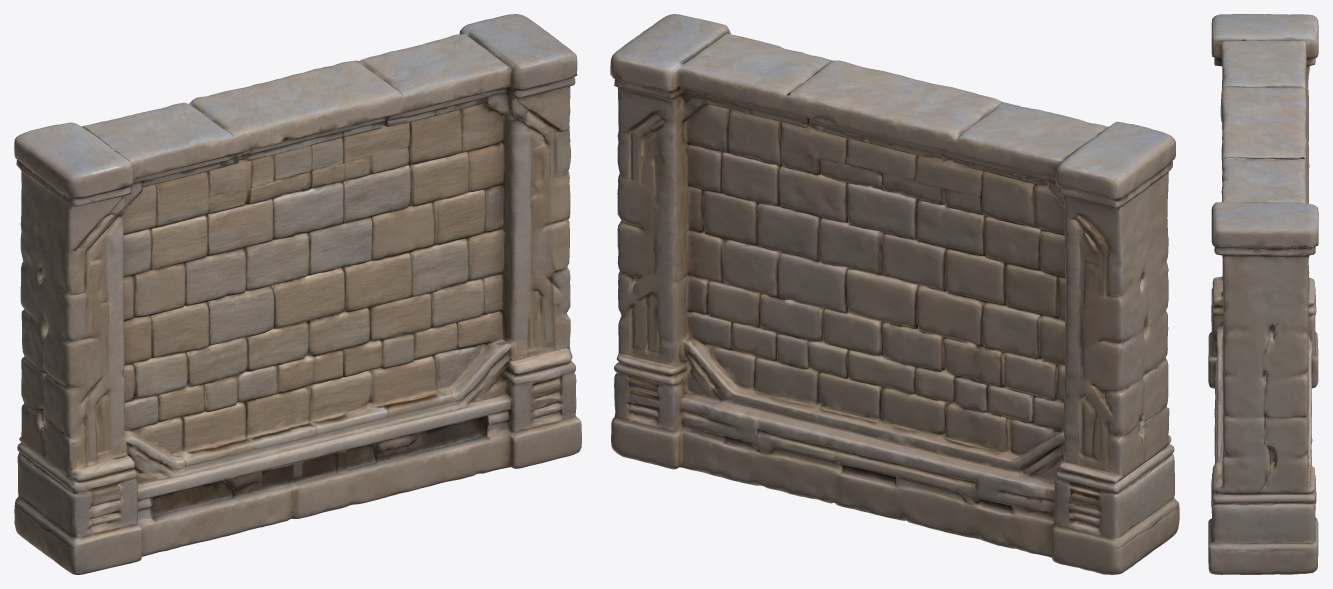
Rendered from Meshy_AI_Stone_Wall_Design_0311203742_texture.glb.
The picture shows the model from 3 angles, left to right: view 1: azimuth 30°, elevation 25°; view 2: azimuth 150°, elevation 25°; view 3: azimuth 270°, elevation 25°; orthographic projection. The views are drawn at different scales.
Bounding box in the file's own units: 2 × 1.5 × 0.4296.
1 material, 1 textured.
